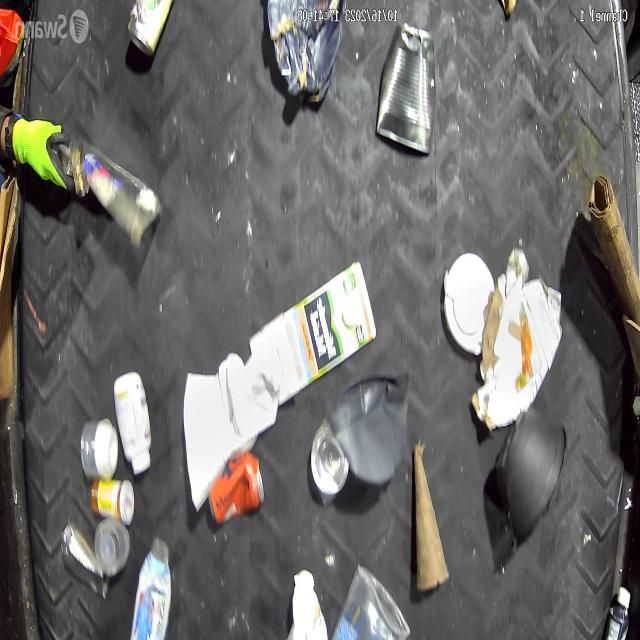can: (373, 26, 437, 160), (206, 445, 269, 544), (303, 421, 361, 505)
plastic_bottle: (132, 524, 175, 640)
